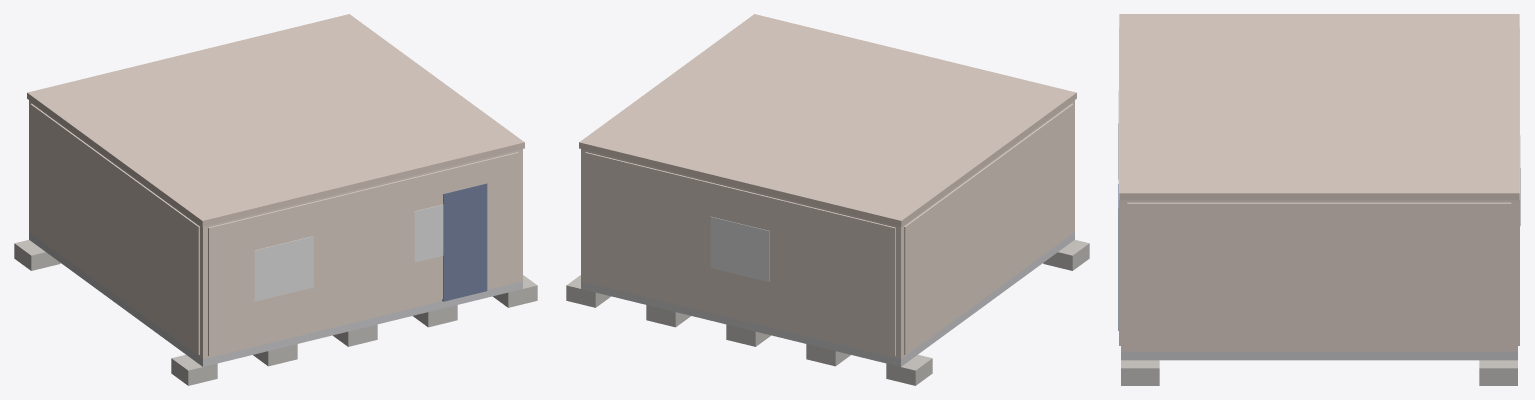
Rendered from Studio-20-Base-Mauve-LOD2.glb.
3 renders of one model, left to right at view 1: azimuth 30°, elevation 25°; view 2: azimuth 150°, elevation 25°; view 3: azimuth 270°, elevation 25°, orthographic. The views are drawn at different scales.
Visible parts, largest first — view 1: RoofMain, ExteriorPanelsStandard, EntryDoor, WindowsStandard, FoundationBlocks, ExteriorShell, BaseFrame; view 2: ExteriorPanelsStandard, RoofMain, FoundationBlocks, BaseFrame, ExteriorShell, WindowsStandard; view 3: RoofMain, ExteriorPanelsStandard, ExteriorShell, BaseFrame, FoundationBlocks.
Part boxes in pixels (x1=…): RoofMain: x1=27, y1=14, x2=524, y2=226; ExteriorPanelsStandard: x1=30, y1=103, x2=518, y2=355; EntryDoor: x1=442, y1=183, x2=487, y2=301; WindowsStandard: x1=254, y1=204, x2=443, y2=301; FoundationBlocks: x1=14, y1=240, x2=537, y2=385; ExteriorShell: x1=29, y1=100, x2=522, y2=359; BaseFrame: x1=29, y1=232, x2=522, y2=366; ExteriorPanelsStandard: x1=585, y1=103, x2=1073, y2=355; RoofMain: x1=579, y1=14, x2=1076, y2=226; FoundationBlocks: x1=566, y1=240, x2=1089, y2=385; BaseFrame: x1=581, y1=232, x2=1074, y2=366; ExteriorShell: x1=581, y1=100, x2=1074, y2=359; WindowsStandard: x1=710, y1=216, x2=769, y2=281; RoofMain: x1=1119, y1=14, x2=1519, y2=200; ExteriorPanelsStandard: x1=1119, y1=27, x2=1519, y2=349; ExteriorShell: x1=1121, y1=200, x2=1517, y2=351; BaseFrame: x1=1121, y1=351, x2=1517, y2=360; FoundationBlocks: x1=1121, y1=360, x2=1517, y2=385.
Size of the model in its own units: 7.14 by 3.17 by 6.24.
